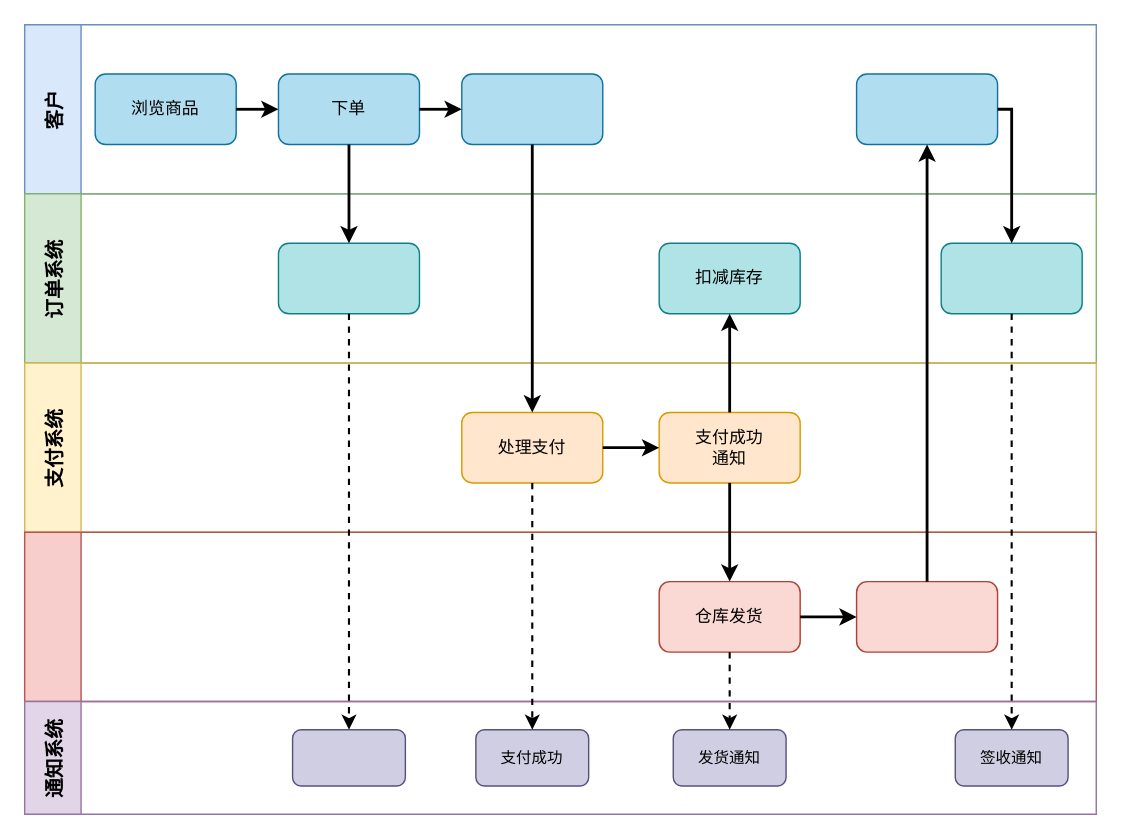
Image size: 1121x839. Some labels were removed from this diagram. Each missing label, with the box of its shape:
创建订单: (277, 242, 419, 314)
支付: (460, 73, 603, 145)
收货: (855, 73, 998, 145)
物流系统: (23, 531, 1096, 701)
订单完成: (940, 242, 1082, 314)
订单确认: (291, 728, 405, 786)
配送中: (855, 580, 998, 652)
